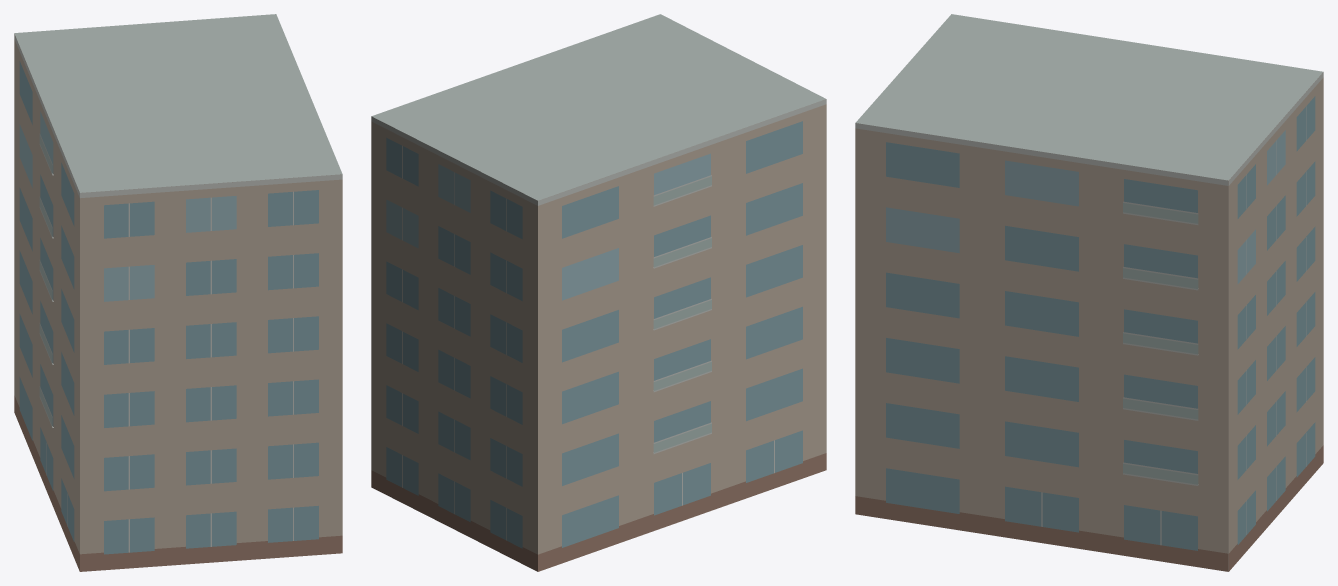
The model's file is survey-upis-32985575.glb.
The picture shows the model from 3 angles, left to right: view 1: azimuth 30°, elevation 25°; view 2: azimuth 150°, elevation 25°; view 3: azimuth 270°, elevation 25°; orthographic projection. The views are drawn at different scales.
Parts seen in each view (by area): view 1: survey-upis-32985575.tmp; view 2: survey-upis-32985575.tmp; view 3: survey-upis-32985575.tmp.
Part boxes in pixels (left/top/right/bottom): survey-upis-32985575.tmp: left=14, top=14, right=342, bottom=571; survey-upis-32985575.tmp: left=371, top=14, right=826, bottom=571; survey-upis-32985575.tmp: left=855, top=14, right=1323, bottom=571.
Size of the model in its own units: 16.03 by 17.55 by 19.04.
